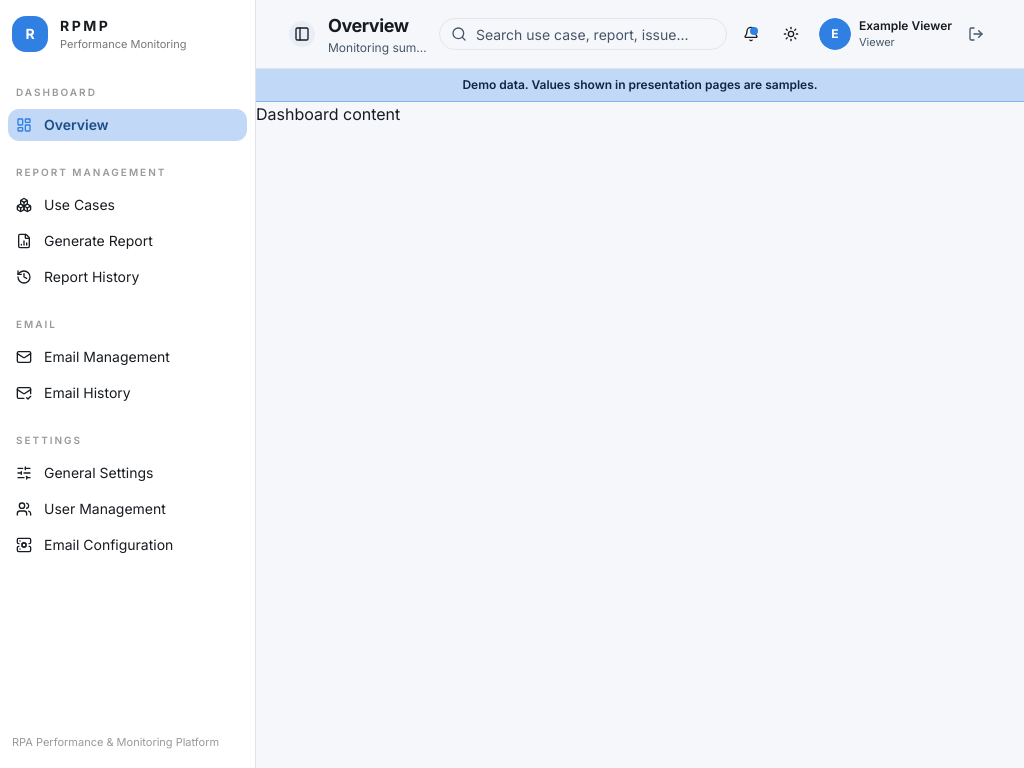
Scenario: auth route gating › collapses and expands the sidebar
This screenshot has width=1024, height=768.
What coordinates should you click on to do the following:
click the button named "Toggle sidebar"
I would click on:
 (302, 34)
Its box is x1=288 y1=20 x2=316 y2=48.
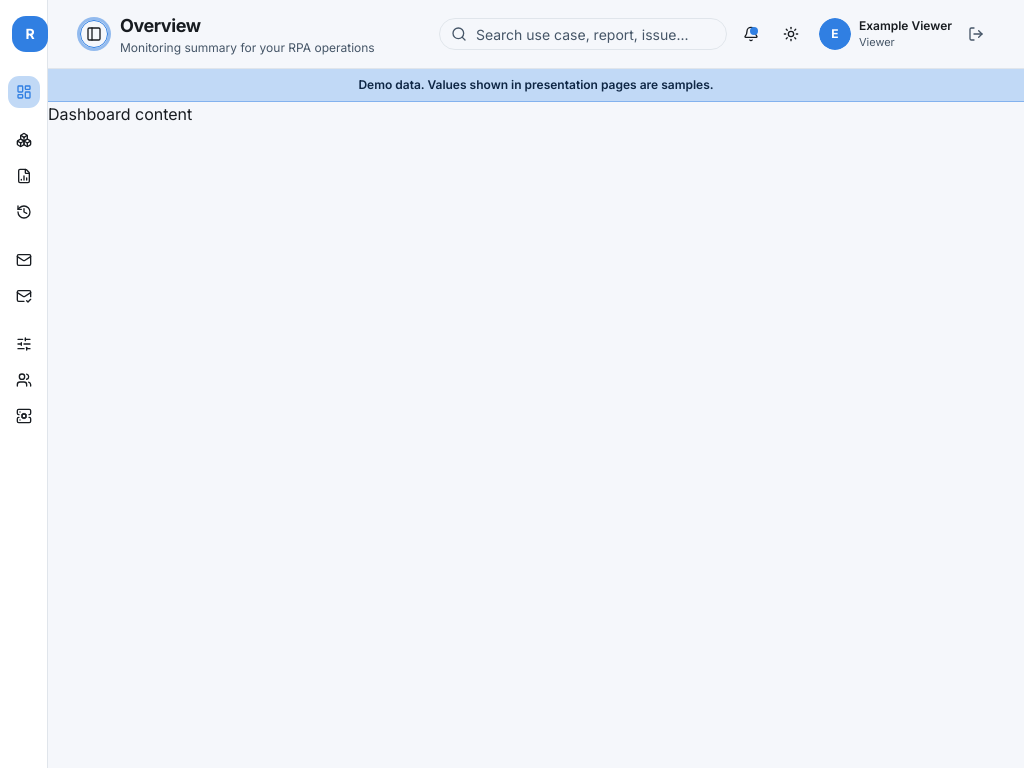
Now the button named "Toggle sidebar" is collapsed
What coordinates should you click on to do the following:
click the button named "Toggle sidebar"
I would click on:
 (94, 34)
Its box is x1=80 y1=20 x2=108 y2=48.
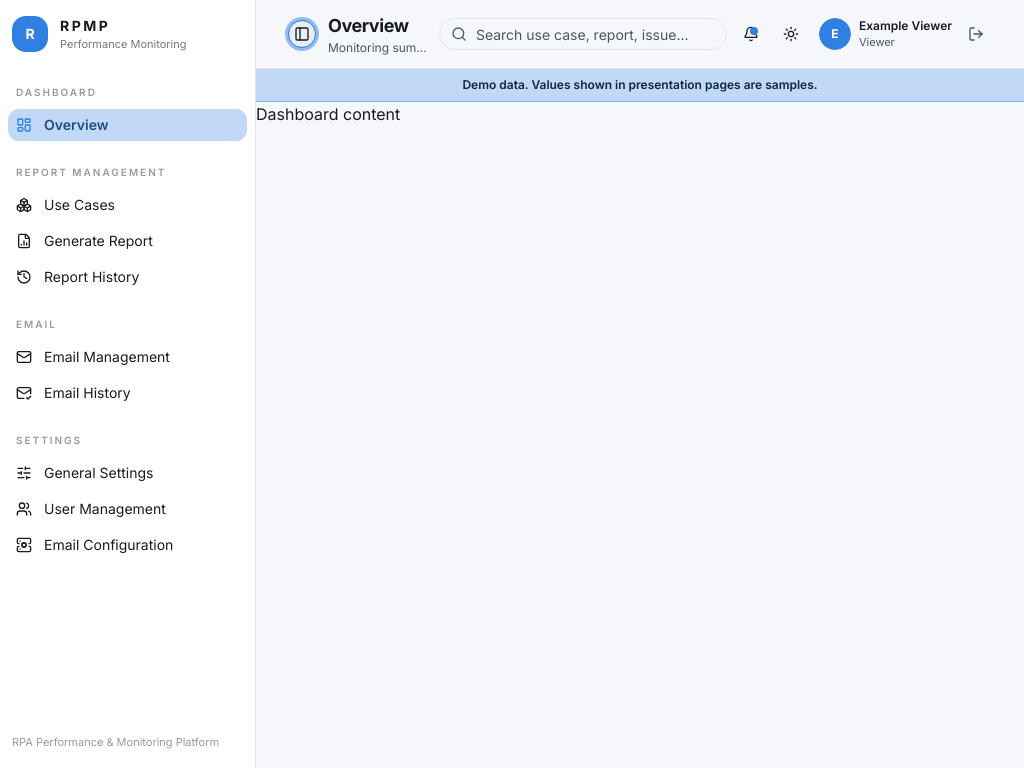
Now the button named "Toggle sidebar" is expanded, box x1=288 y1=20 x2=316 y2=48
